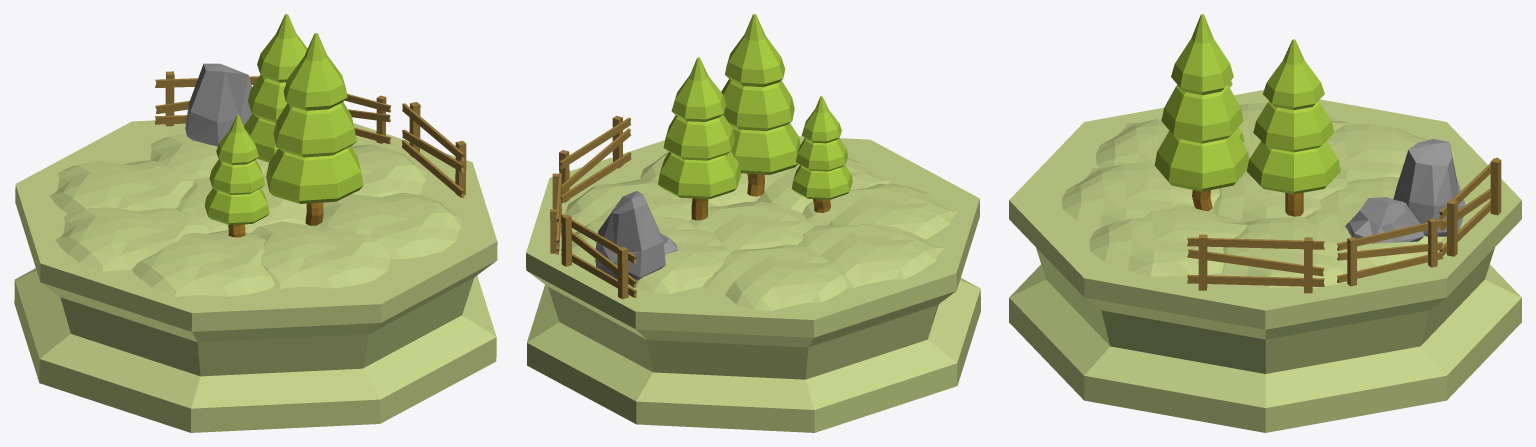
The picture shows the model from 3 angles, left to right: view 1: azimuth 30°, elevation 25°; view 2: azimuth 150°, elevation 25°; view 3: azimuth 270°, elevation 25°; orthographic projection. The views are drawn at different scales.
Parts seen in each view (by area): view 1: Ground-material (×9), Trees-material, Fences-material (×3), Rocks-material, Bark-material; view 2: Ground-material (×10), Trees-material, Fences-material (×3), Rocks-material, Bark-material; view 3: Ground-material (×10), Trees-material, Fences-material (×3), Rocks-material (×2), Bark-material.
Part boxes in pixels (left/top/right/bottom): Ground-material (×9): left=14, top=120, right=497, bottom=432; Trees-material: left=204, top=14, right=363, bottom=224; Fences-material (×3): left=155, top=71, right=466, bottom=197; Rocks-material: left=185, top=63, right=251, bottom=146; Bark-material: left=228, top=202, right=323, bottom=237; Ground-material (×10): left=526, top=136, right=980, bottom=432; Trees-material: left=658, top=14, right=852, bottom=199; Fences-material (×3): left=550, top=115, right=636, bottom=299; Rocks-material: left=595, top=191, right=665, bottom=280; Bark-material: left=691, top=173, right=830, bottom=220; Ground-material (×10): left=1009, top=90, right=1521, bottom=432; Trees-material: left=1154, top=14, right=1340, bottom=194; Fences-material (×3): left=1187, top=157, right=1501, bottom=293; Rocks-material (×2): left=1345, top=139, right=1465, bottom=243; Bark-material: left=1192, top=190, right=1303, bottom=216.
Bounding box in the file's own units: 21.48 × 14.98 × 21.43.
